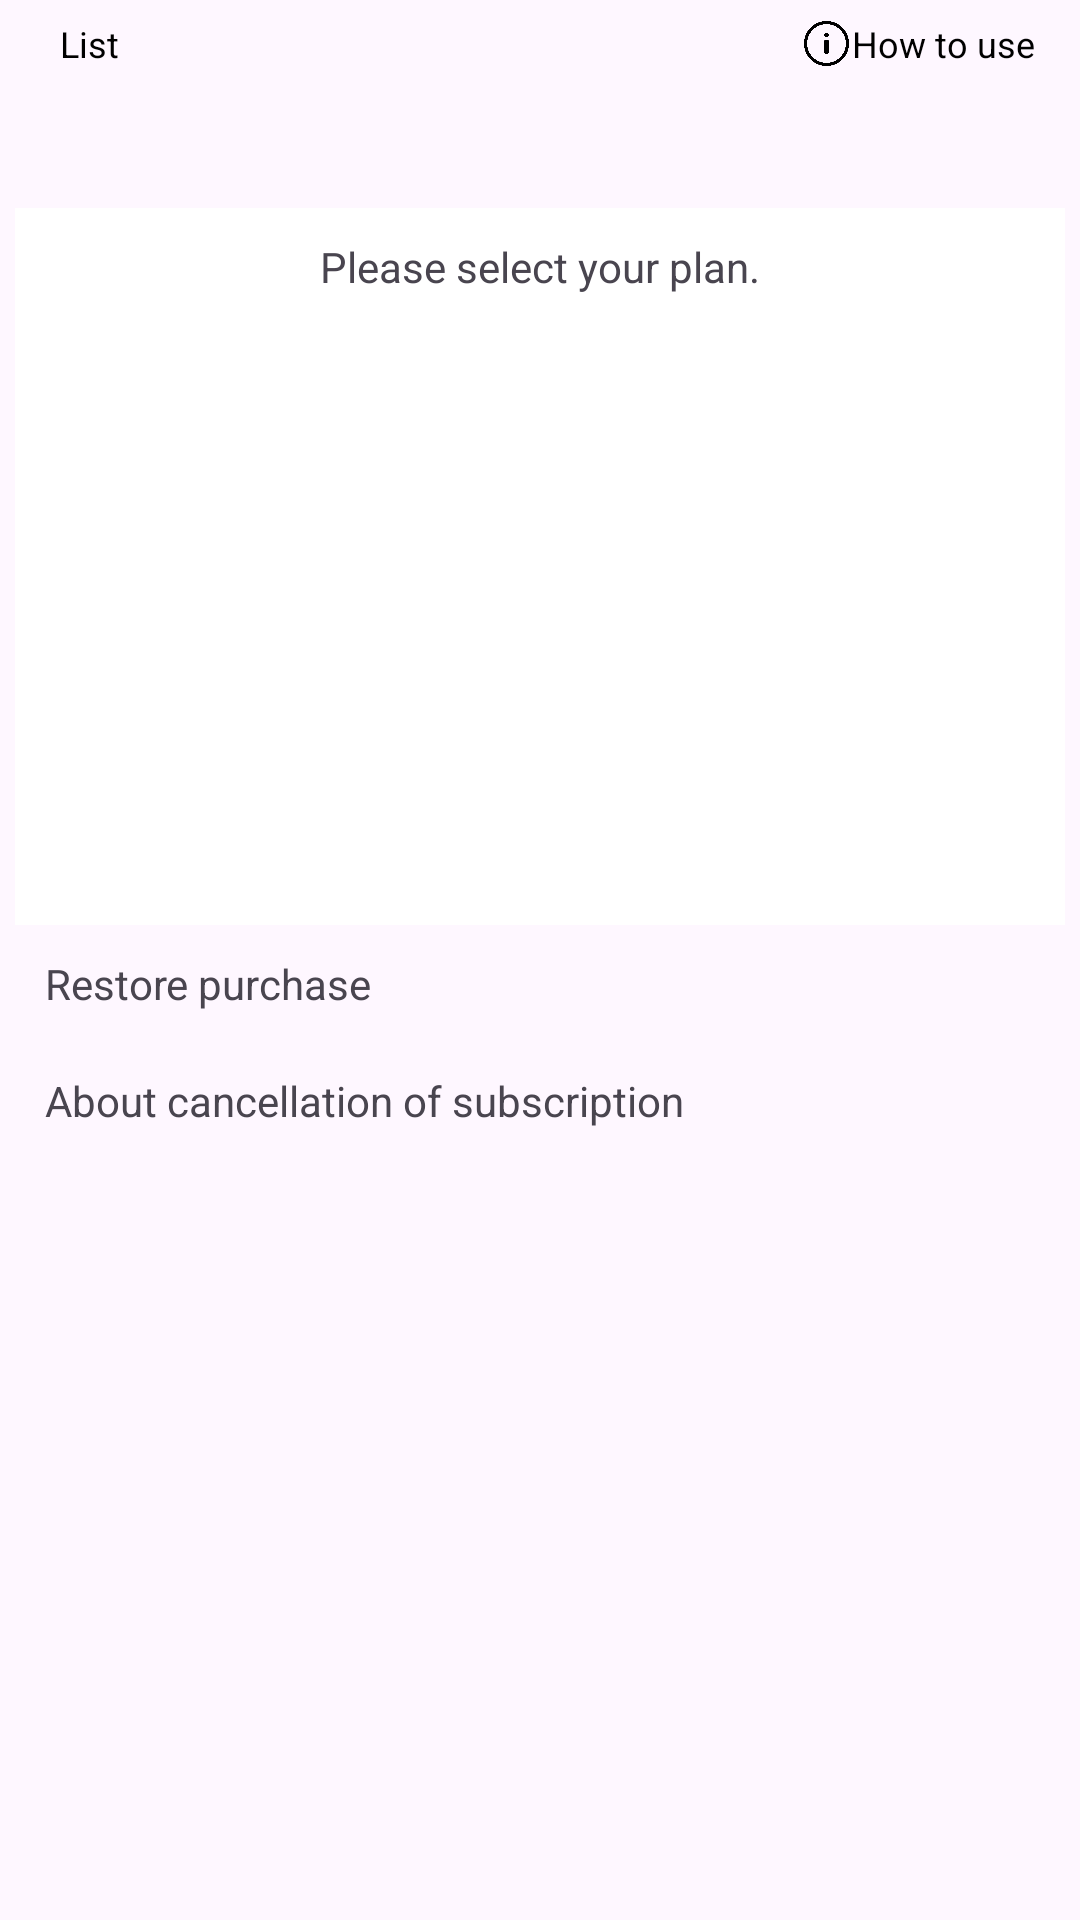

Point at icon controls on the screen. Image size 1080×1920, points as (x=x, y=y).
info: (x=826, y=43)
